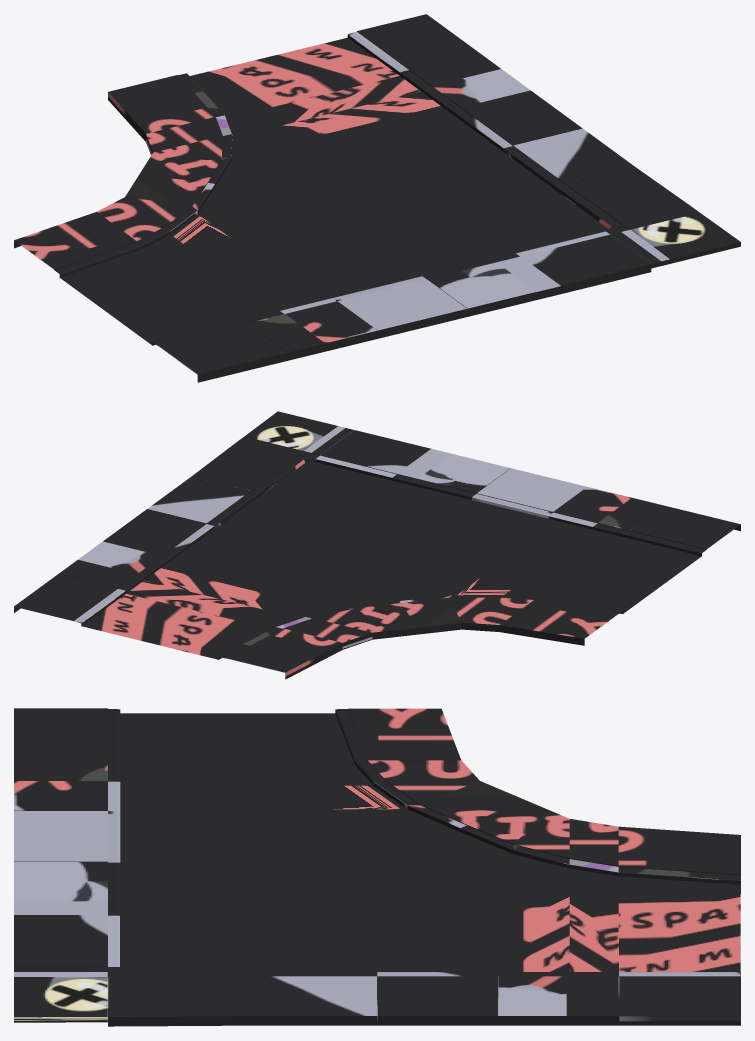
The model's file is SM_Street_90Turn.fbx.
3 views of the same model, one above another, from view 1: azimuth 30°, elevation 25°; view 2: azimuth 150°, elevation 25°; view 3: azimuth 270°, elevation 25° (orthographic). The views are drawn at different scales.
Visible parts, largest first — view 1: SM_Road_90Turn, SM_Sidewalk_90Turn; view 2: SM_Road_90Turn, SM_Sidewalk_90Turn; view 3: SM_Road_90Turn, SM_Sidewalk_90Turn.
Part boxes in pixels (x1,y1,x2,y2): SM_Road_90Turn: (60,37,608,344); SM_Sidewalk_90Turn: (14,14,740,382); SM_Road_90Turn: (82,462,701,659); SM_Sidewalk_90Turn: (14,411,740,679); SM_Road_90Turn: (120,713,740,972); SM_Sidewalk_90Turn: (14,708,740,1026).
Bounding box in the file's own units: 1063 × 15.44 × 1058.
